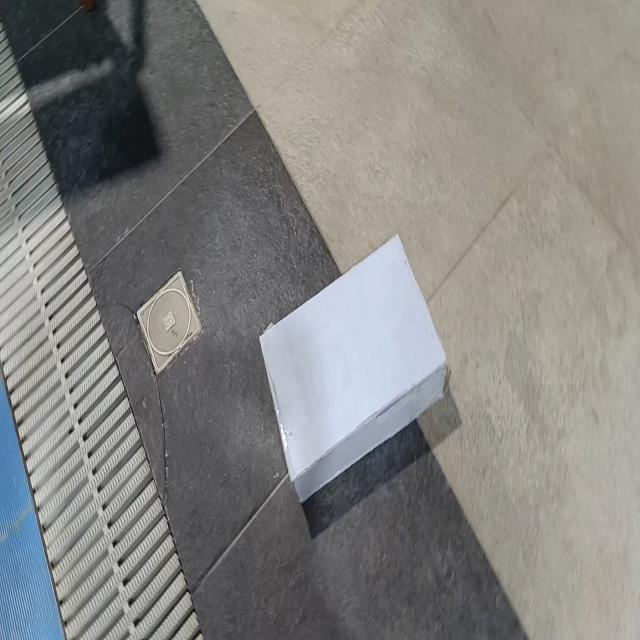Cuboid: (258, 231, 448, 505)
